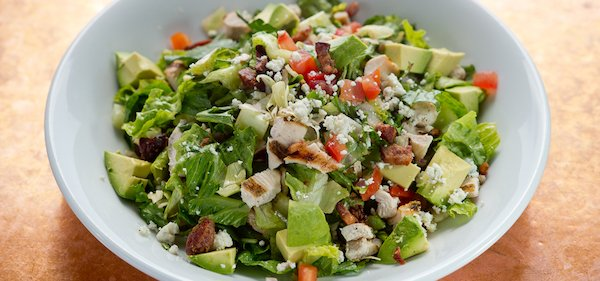sushi: (21, 0, 552, 276)
